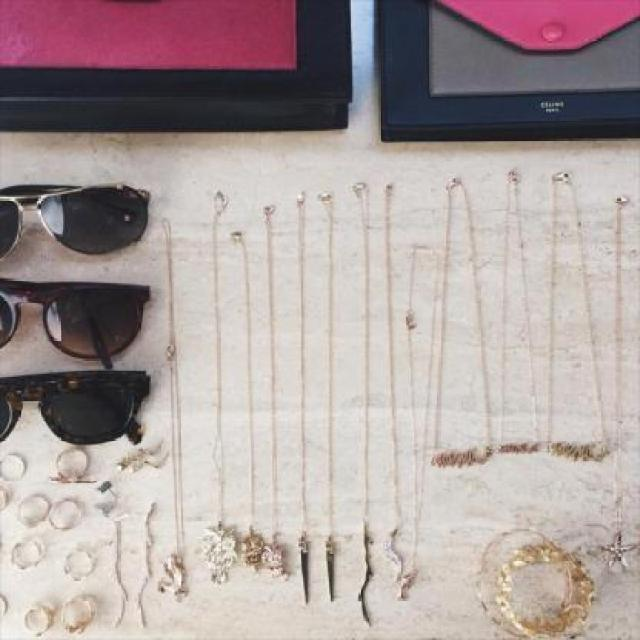glasses: (0, 277, 172, 357), (0, 177, 158, 264), (0, 370, 182, 445)
